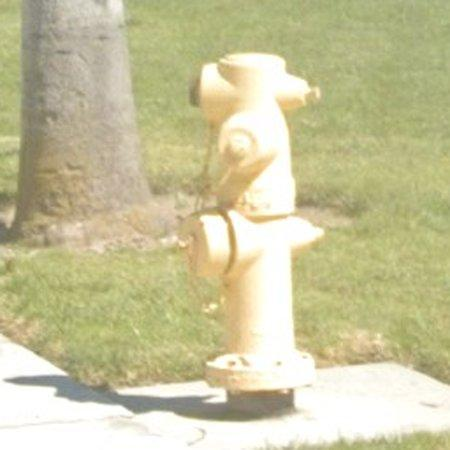a fire hydrant: (189, 54, 324, 407)
